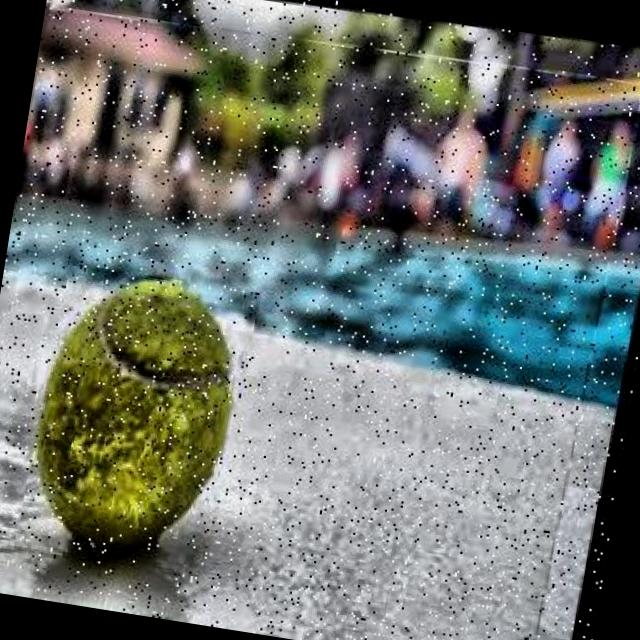Tennis Ball: (16, 258, 263, 572)
